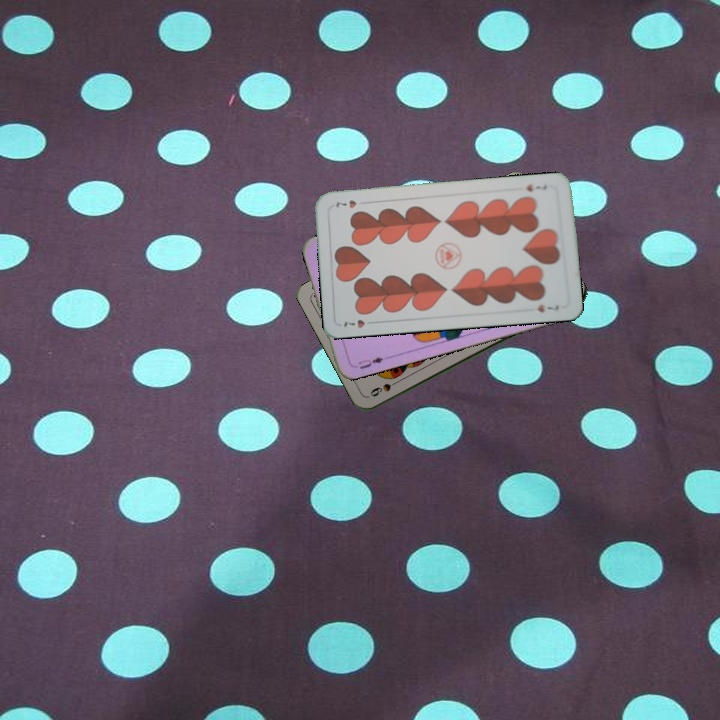EU: (349, 353, 386, 372)
H7: (340, 315, 379, 331), (522, 180, 549, 194)
S9: (366, 375, 403, 399)
